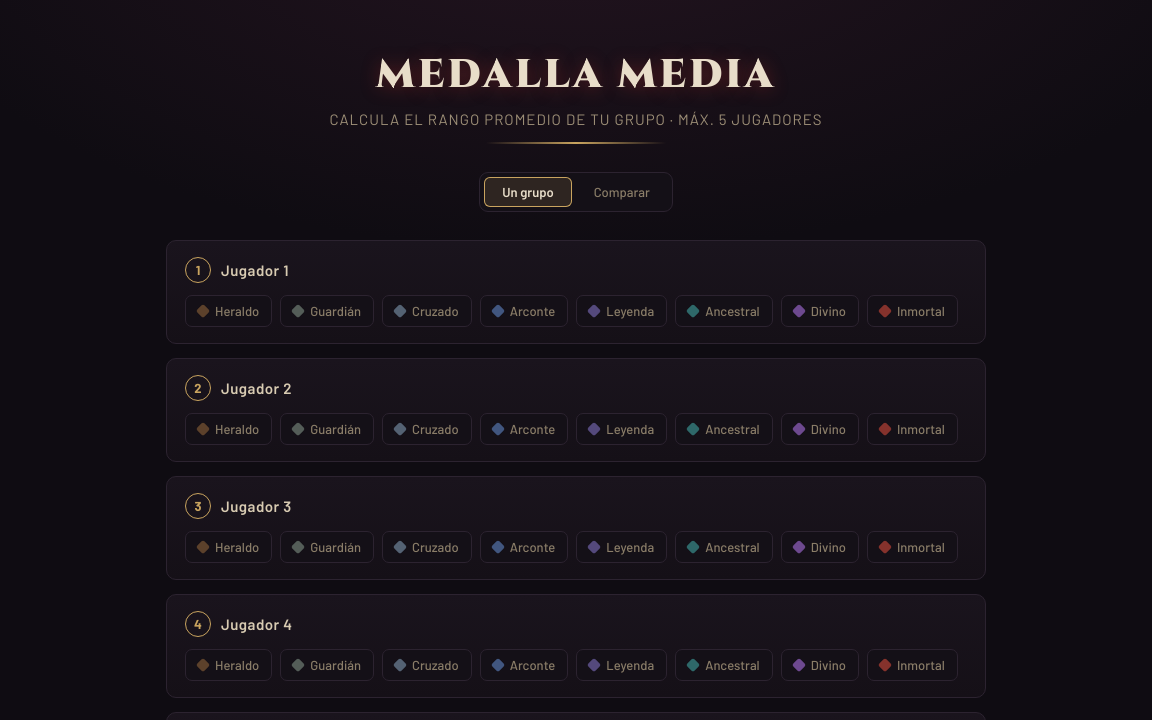
App › always reports a margin of error alongside the average
Click the 1st button "Arconte".
click(524, 311)  # box [480, 295, 568, 327]
(page scrolled)
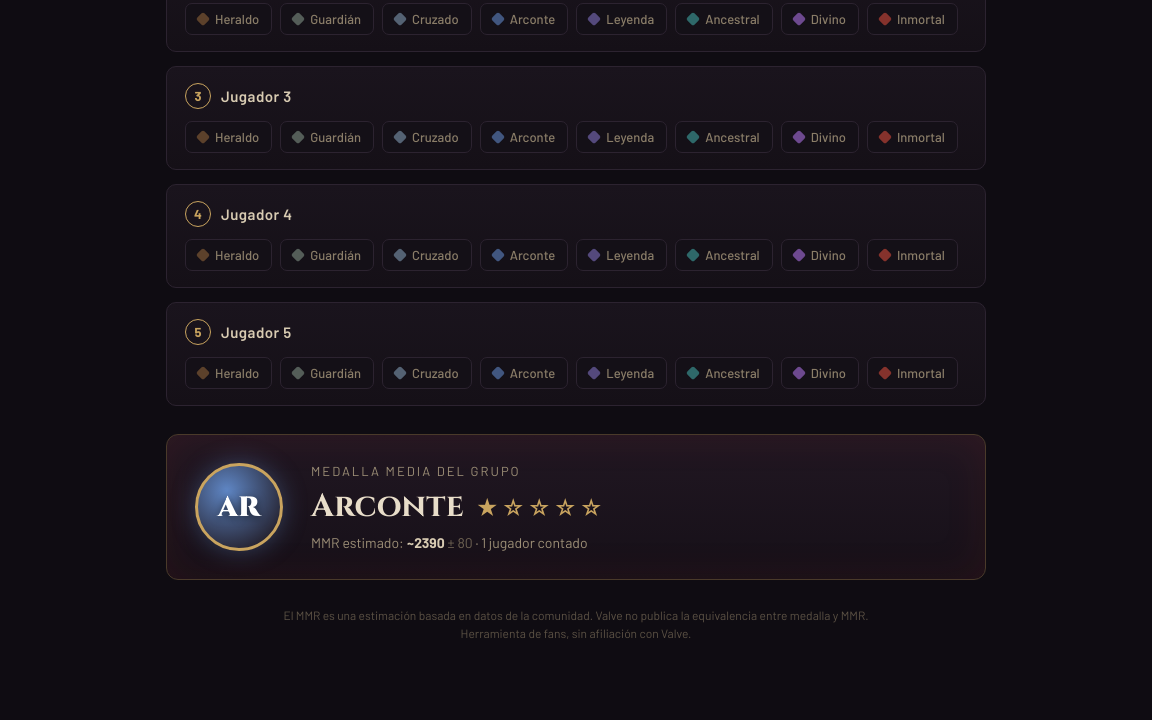
Expected: the text "± 80" is shown, [448, 534, 473, 551]
